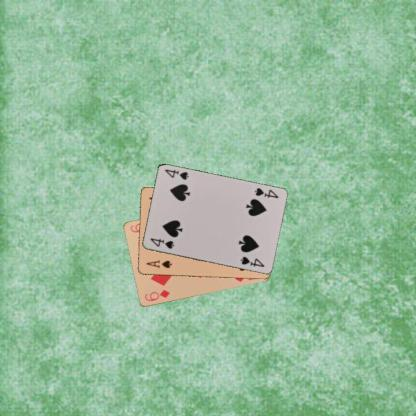4s: (147, 236, 175, 250), (252, 186, 280, 200)
6d: (142, 287, 171, 302)
As: (144, 258, 173, 270)
